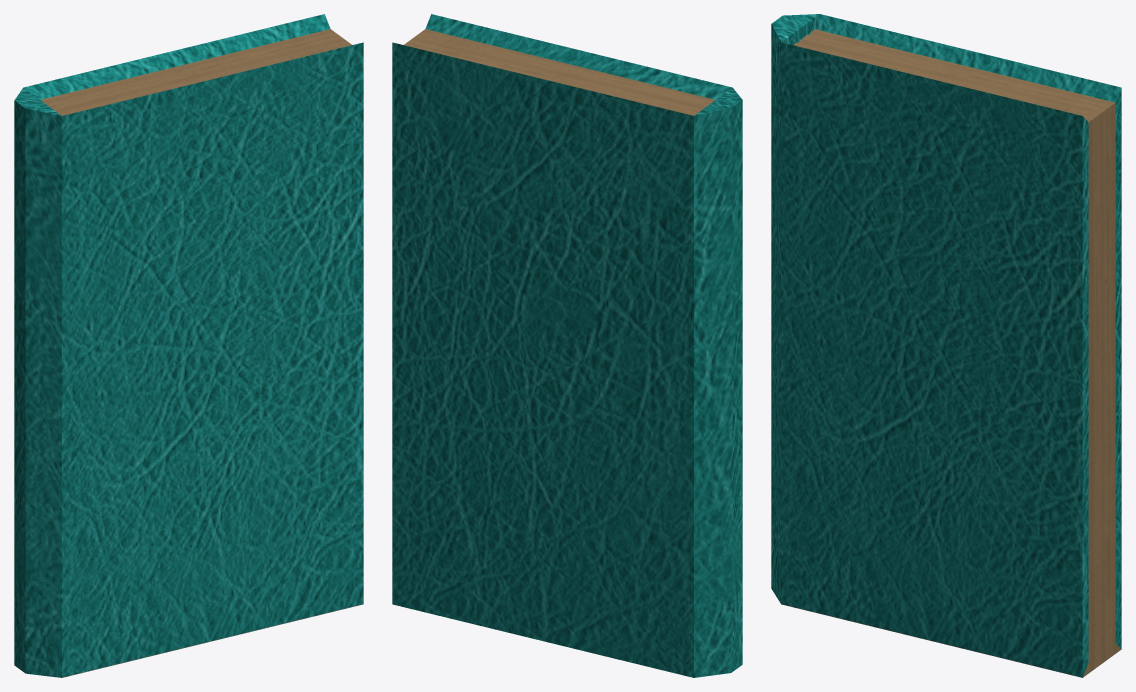
Rendered from Book color 5.fbx.
The picture shows the model from 3 angles, left to right: view 1: azimuth 30°, elevation 25°; view 2: azimuth 150°, elevation 25°; view 3: azimuth 330°, elevation 25°; orthographic projection.
Parts seen in each view (by area): view 1: Cube; view 2: Cube; view 3: Cube.
Boxes of the visible parts, box(x1,y1,x2,y2) form: Cube: box(14, 14, 363, 677); Cube: box(392, 14, 742, 677); Cube: box(771, 14, 1121, 677).
Size of the model in its own units: 121 by 201 by 25.05.
1 material, 1 textured.
